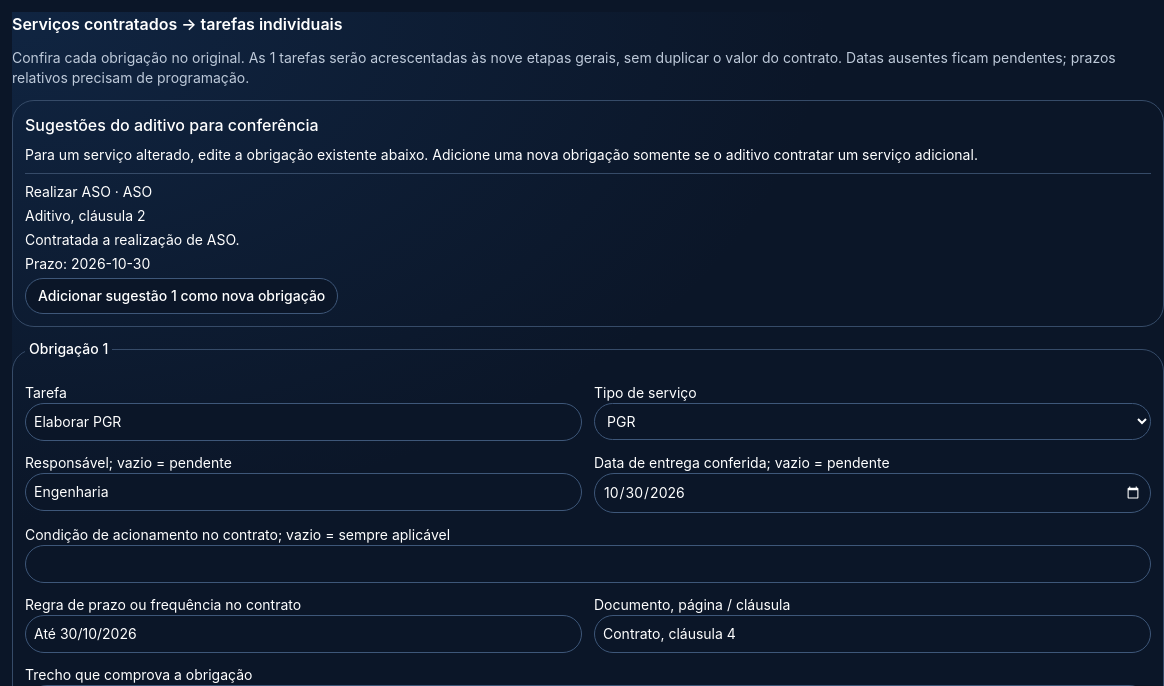
Scenario: keeps existing duties and human edits while accepting an addendum suggestion with a colliding ID
The width and height of the screenshot is (1164, 686).
Replace the text in the field named "obligation.pgr.title" with "Revisar PGR da unidade A": point(304, 422) [25,403,582,441]
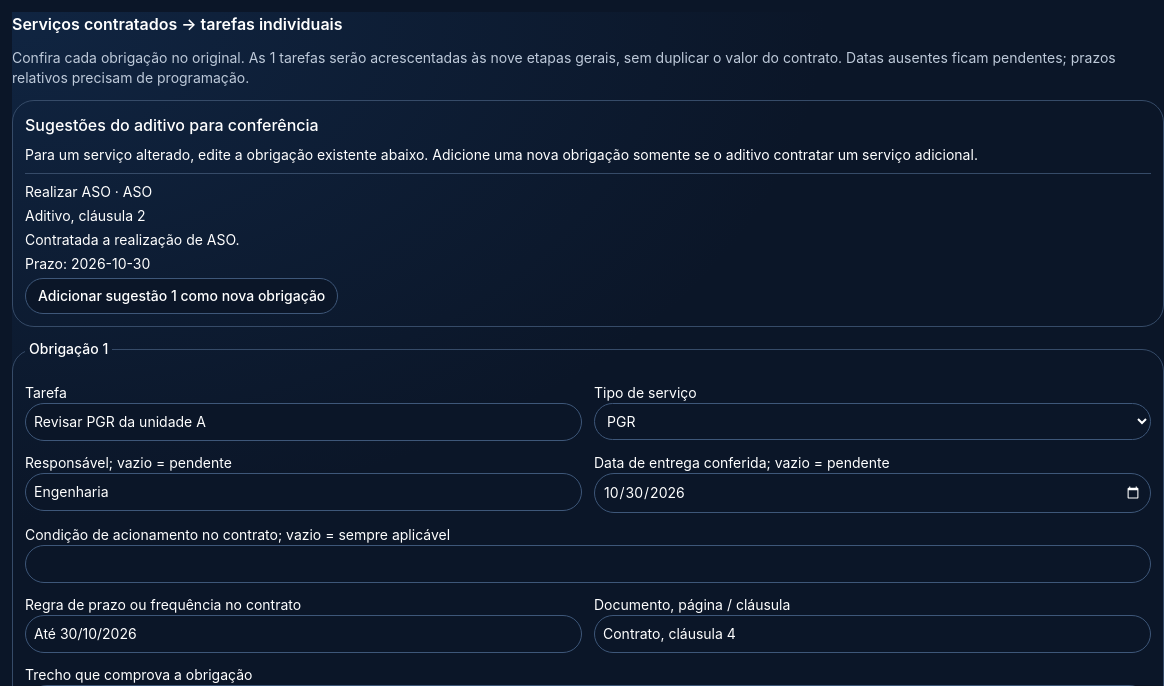
Click the button "Adicionar sugestão 1 como nova obrigação": point(182, 296) [25,278,338,314]
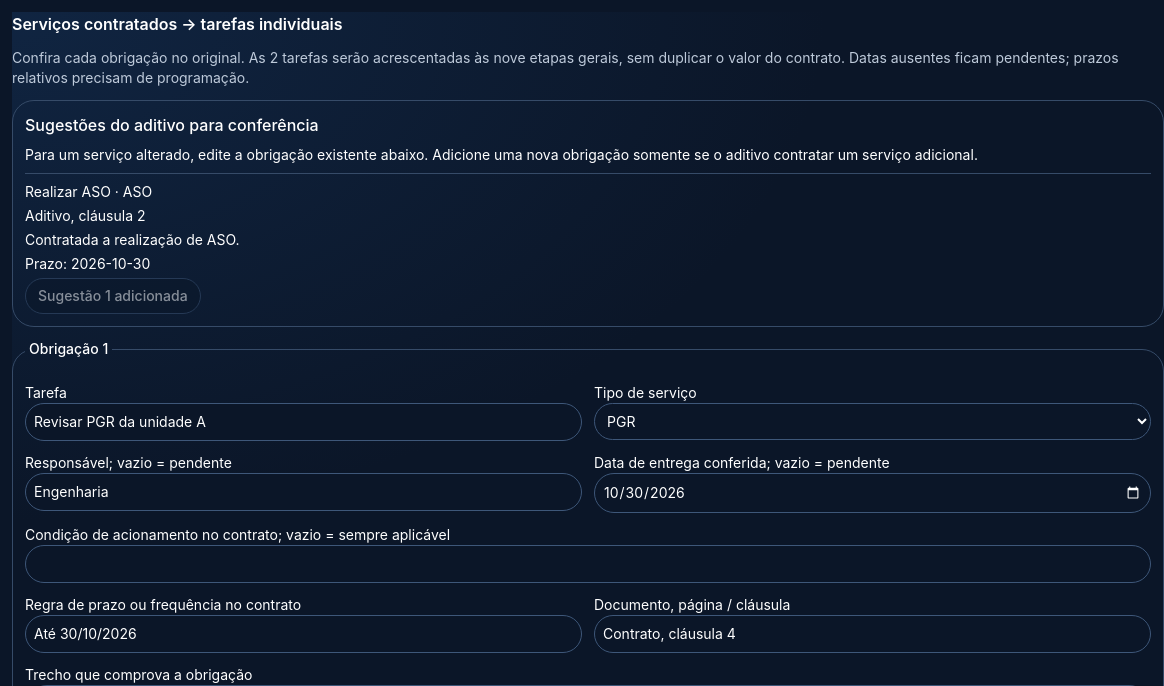
Check: the button "Sugestão 1 adicionada" is disabled, box [25,278,201,314]
